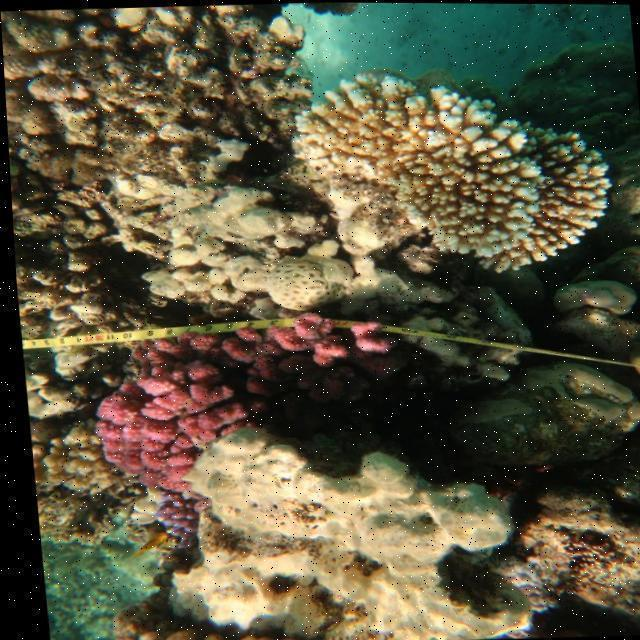Healthy Coral: (78, 298, 405, 497), (311, 75, 606, 275), (149, 491, 204, 551)
